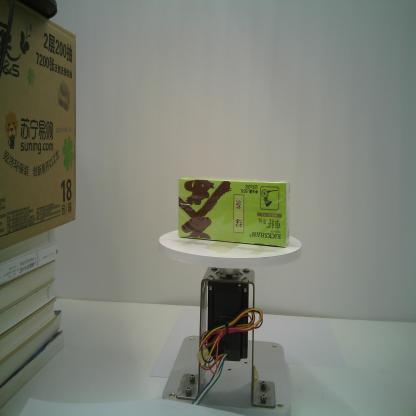Instant Drink: (178, 175, 290, 249)
